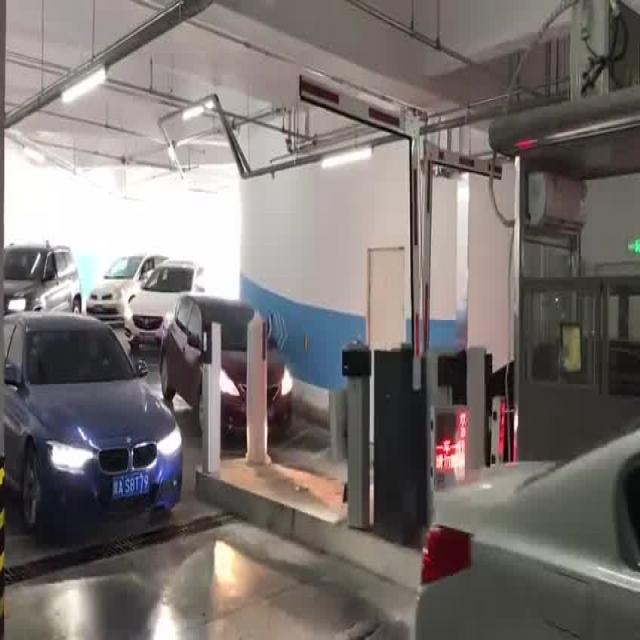CarIn: (5, 312, 187, 543), (152, 280, 293, 433), (126, 257, 212, 368), (1, 225, 90, 324), (82, 237, 166, 319)
GateOpened: (291, 65, 426, 399), (420, 126, 507, 402)
